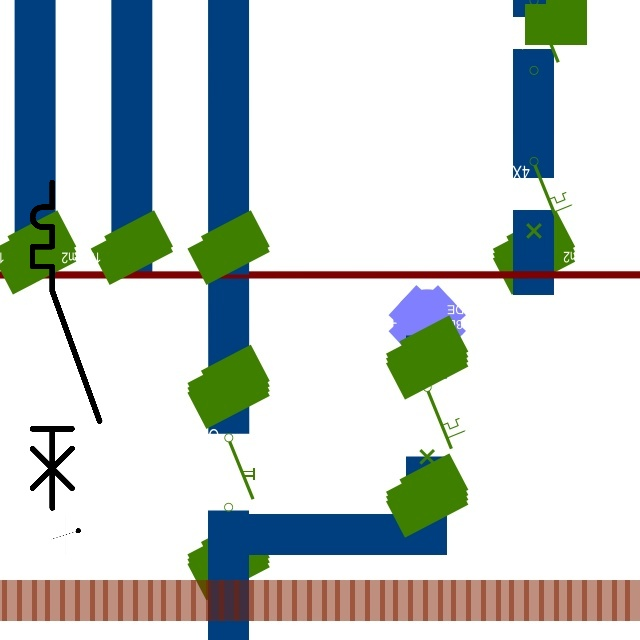interruptor_termomagnetico: (24, 174, 108, 517)
